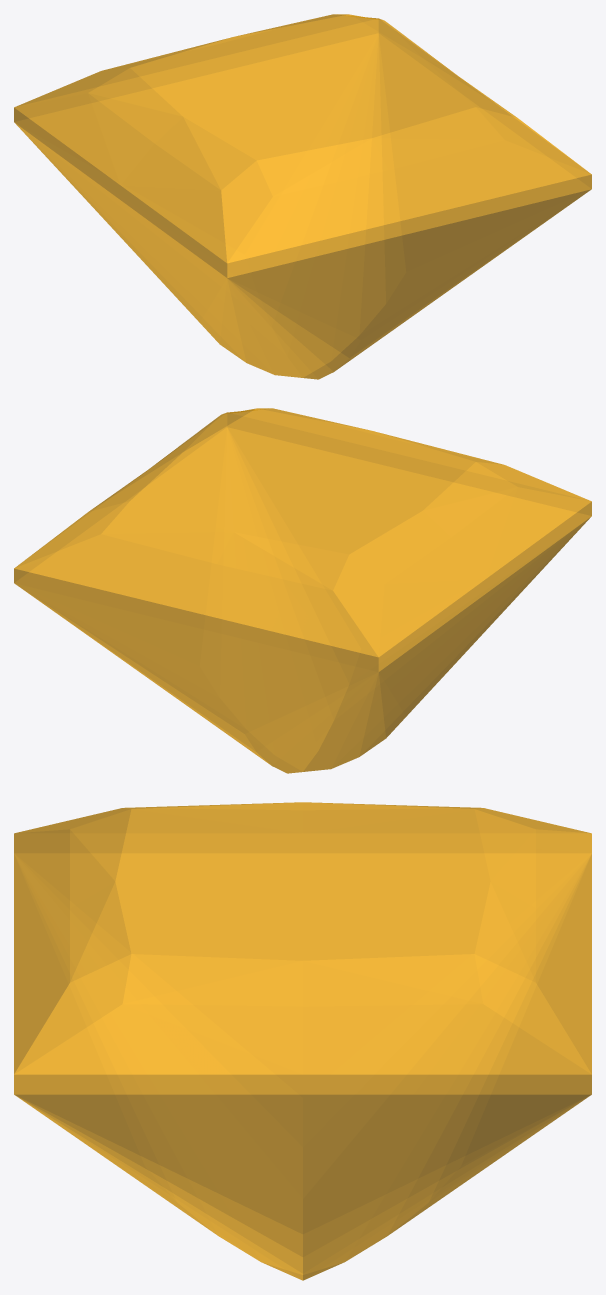
File: princess citrine.glb
3 renders of one model, top to bottom at view 1: azimuth 30°, elevation 25°; view 2: azimuth 150°, elevation 25°; view 3: azimuth 270°, elevation 25°, orthographic. The views are drawn at different scales.
Parts seen in each view (by area): view 1: Princess; view 2: Princess; view 3: Princess.
Part boxes in pixels (bbox=[...]): Princess: bbox=[14, 14, 591, 379]; Princess: bbox=[14, 408, 591, 773]; Princess: bbox=[14, 802, 591, 1280].
Size of the model in its own units: 1.38 by 1.05 by 1.4.
